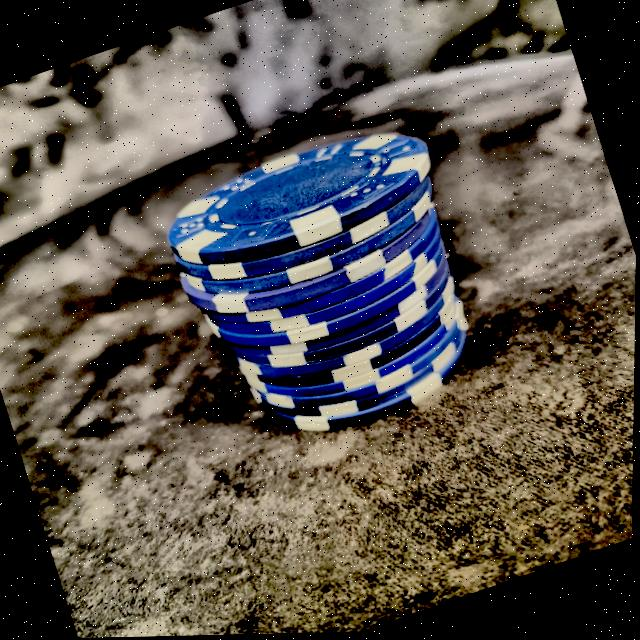Chip: (121, 90, 528, 479)
